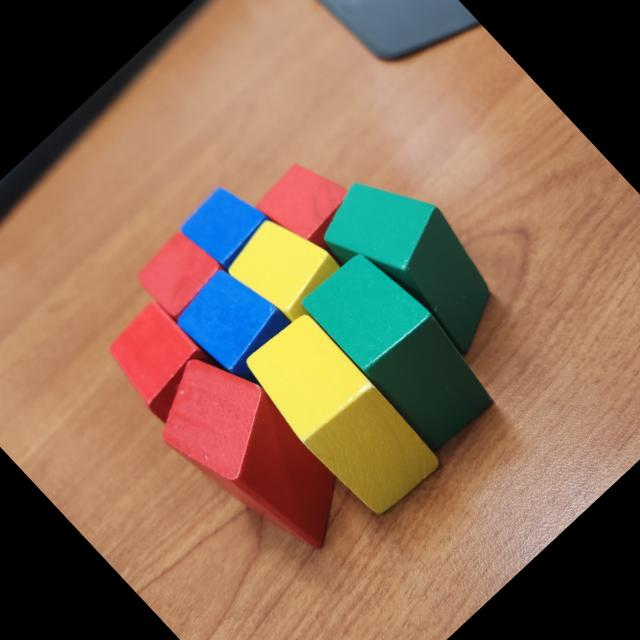blue: (168, 256, 312, 400), (176, 175, 280, 278)
green: (303, 149, 528, 378), (296, 239, 508, 457)
red: (134, 336, 372, 578), (94, 296, 225, 428), (250, 148, 368, 266), (130, 224, 230, 324)
yellow: (234, 306, 446, 522), (219, 202, 350, 334)
